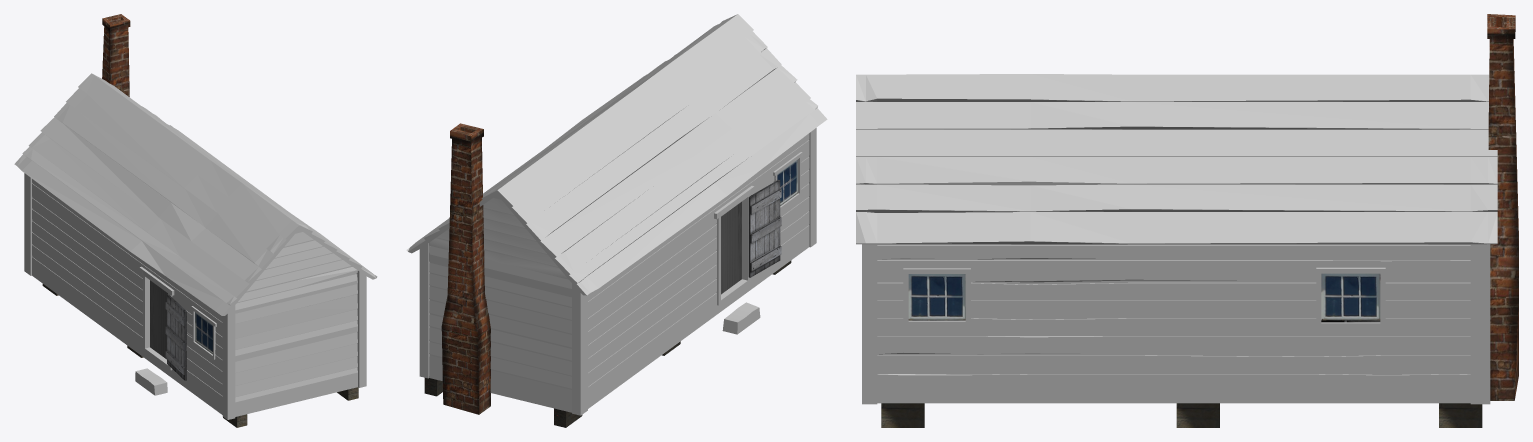
Rendered from ShoeshopOnly.FBX.
3 renders of one model, left to right at view 1: azimuth 30°, elevation 25°; view 2: azimuth 150°, elevation 25°; view 3: azimuth 270°, elevation 25°, orthographic. The views are drawn at different scales.
Parts seen in each view (by area): view 1: ShoeshopExteriorLoPoly, Chimney, Door, ShoeshopInteriorloPoly, StoneStepLoPoly001, ExteriorWindow; view 2: ShoeshopExteriorLoPoly, Chimney, Door, ShoeshopInteriorloPoly, StoneStepLoPoly001, ExteriorWindow; view 3: ShoeshopExteriorLoPoly, Chimney, ExteriorWindow002, ExteriorWindow001, BuildingPiers001, BuildingPiers005, BuildingPiers003.
Boxes of the visible parts, x1,y1,x2,y2 form: ShoeshopExteriorLoPoly: (14,73,377,419); Chimney: (102,14,130,96); Door: (165,294,186,380); ShoeshopInteriorloPoly: (150,280,167,359); StoneStepLoPoly001: (135,368,167,395); ExteriorWindow: (195,312,212,354); ShoeshopExteriorLoPoly: (406,14,827,415); Chimney: (441,123,490,414); Door: (748,179,781,277); ShoeshopInteriorloPoly: (721,201,741,294); StoneStepLoPoly001: (722,302,760,334); ExteriorWindow: (777,159,797,205); ShoeshopExteriorLoPoly: (856,74,1497,404); Chimney: (1487,14,1518,400); ExteriorWindow002: (1321,273,1380,320); ExteriorWindow001: (908,274,965,320); BuildingPiers001: (881,403,924,427); BuildingPiers005: (1176,403,1219,427); BuildingPiers003: (1439,403,1482,427).
Size of the model in its own units: 1067 by 1546 by 2473.
